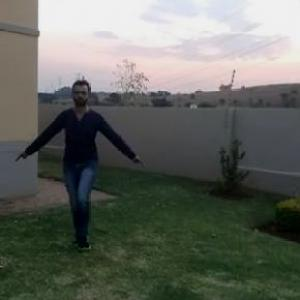land: (35, 87, 141, 221)
